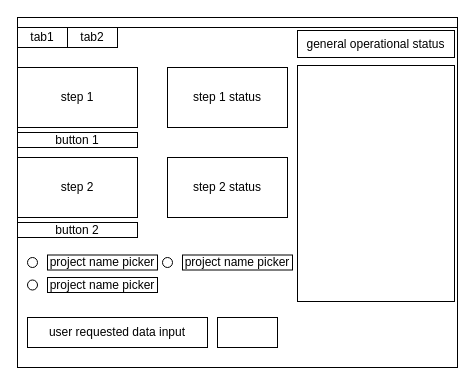
The diagram is 475 pixels wide and 385 high, and some of its shapes have lost their labels. The box of each missing label's shape, as (x1, y1, x2, y2) in pixels:
fetch data bttn: (216, 316, 278, 348)
general requested data output: (296, 64, 454, 302)
